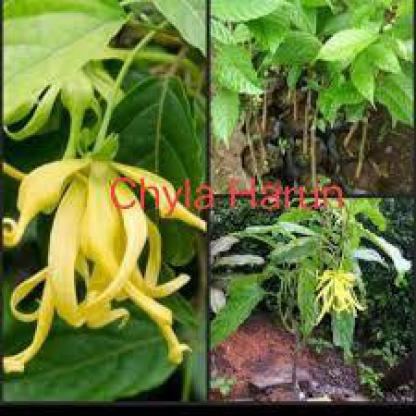Kenanga: (40, 129, 171, 360), (314, 256, 362, 308)
